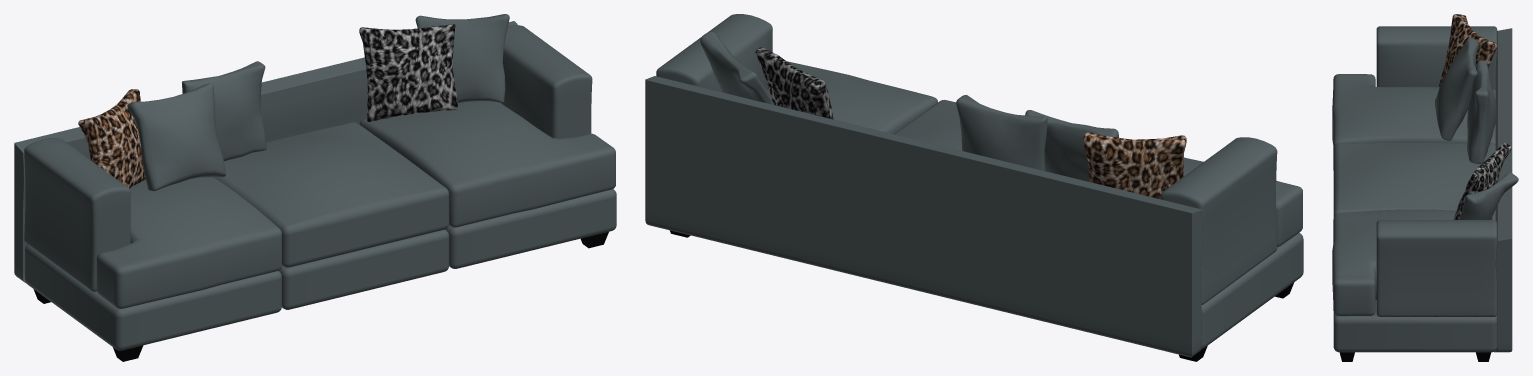
The picture shows the model from 3 angles, left to right: view 1: azimuth 30°, elevation 25°; view 2: azimuth 150°, elevation 25°; view 3: azimuth 270°, elevation 25°; orthographic projection. The views are drawn at different scales.
Visible parts, largest first — view 1: Sofa Set_Version_03_Sofa Set_Version_03_0; view 2: Sofa Set_Version_03_Sofa Set_Version_03_0; view 3: Sofa Set_Version_03_Sofa Set_Version_03_0.
Part boxes in pixels (x1,y1,x2,y2): Sofa Set_Version_03_Sofa Set_Version_03_0: (14, 14, 616, 361); Sofa Set_Version_03_Sofa Set_Version_03_0: (645, 14, 1303, 361); Sofa Set_Version_03_Sofa Set_Version_03_0: (1332, 14, 1518, 361).
Bounding box in the file's own units: 278 × 98.78 × 104.
1 material, 1 textured.
